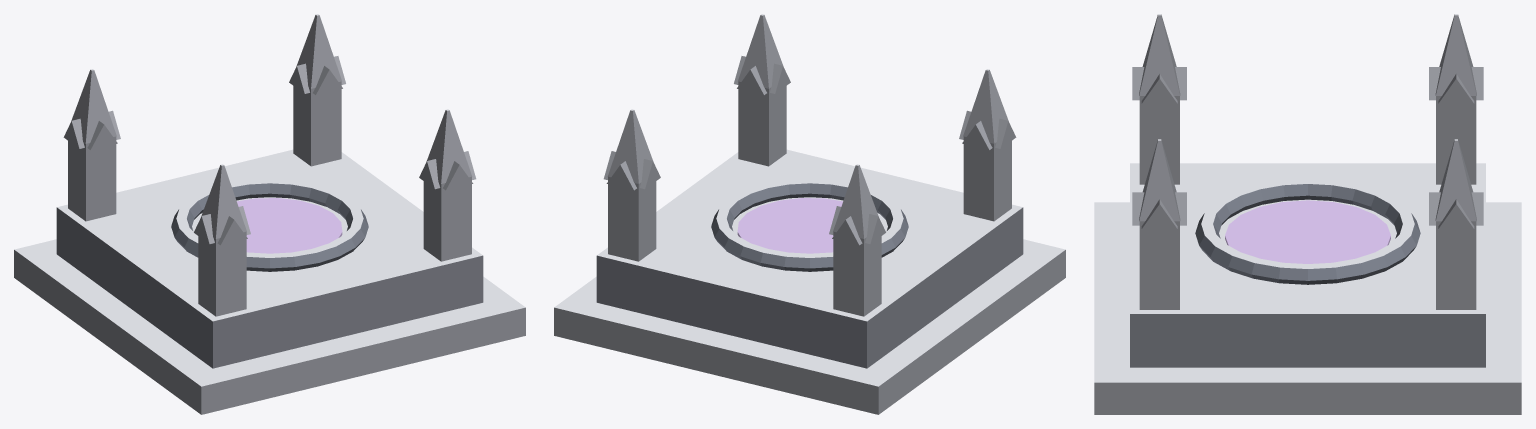
File: PR_Montagem_Base.fbx
The picture shows the model from 3 angles, left to right: view 1: azimuth 30°, elevation 25°; view 2: azimuth 150°, elevation 25°; view 3: azimuth 270°, elevation 25°; orthographic projection. The views are drawn at different scales.
Parts seen in each view (by area): view 1: PR_Montagem_Base; view 2: PR_Montagem_Base; view 3: PR_Montagem_Base.
Boxes of the visible parts, <box> form: PR_Montagem_Base: <box>14,14,525,414</box>; PR_Montagem_Base: <box>554,14,1065,414</box>; PR_Montagem_Base: <box>1094,14,1521,414</box>.
Size of the model in its own units: 3.6 by 2.3 by 3.6.
